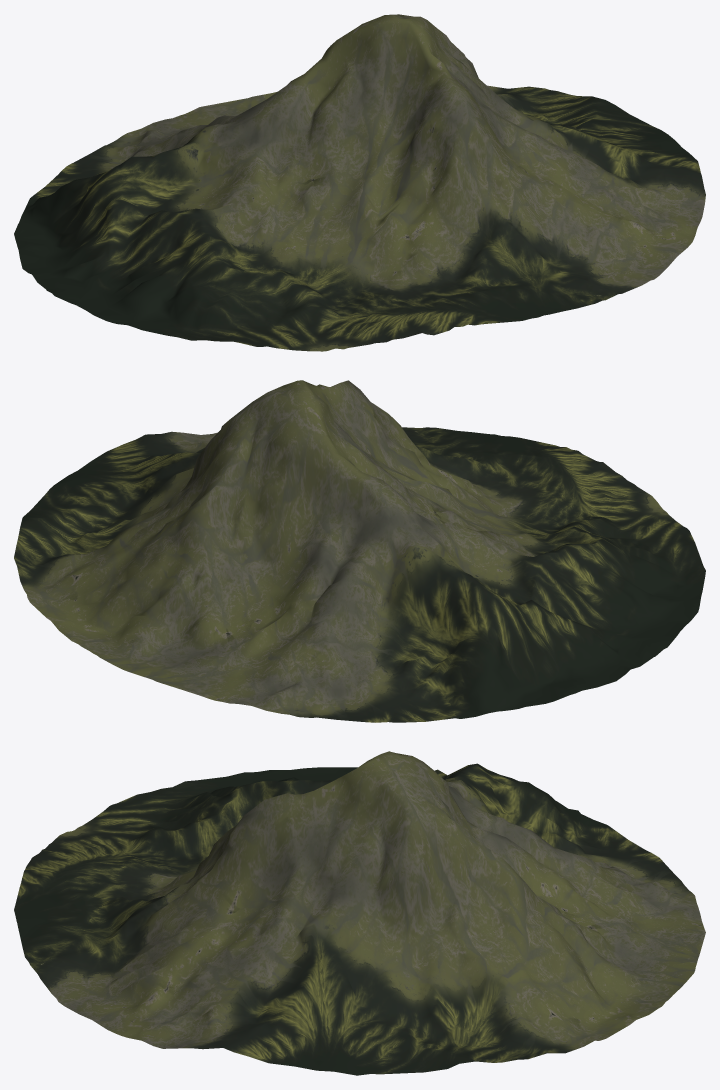
File: SM_Mountain_B.fbx
3 views of the same model, one above another, from view 1: azimuth 30°, elevation 25°; view 2: azimuth 150°, elevation 25°; view 3: azimuth 270°, elevation 25° (orthographic). The views are drawn at different scales.
Parts seen in each view (by area): view 1: SM_Mountain_B_LOD0; view 2: SM_Mountain_B_LOD0; view 3: SM_Mountain_B_LOD0.
Part boxes in pixels (x1,y1,x2,y2): SM_Mountain_B_LOD0: (14, 14, 705, 351); SM_Mountain_B_LOD0: (14, 380, 705, 722); SM_Mountain_B_LOD0: (14, 751, 705, 1075).
Bounding box in the file's own units: 14078 × 12798 × 4271.
1 material, 1 textured.
